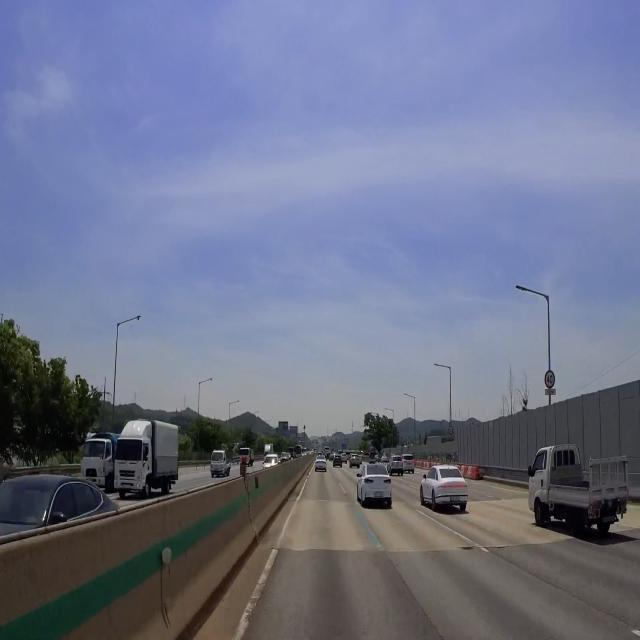car: (598, 510, 621, 527), (449, 494, 464, 509), (372, 489, 386, 501)
